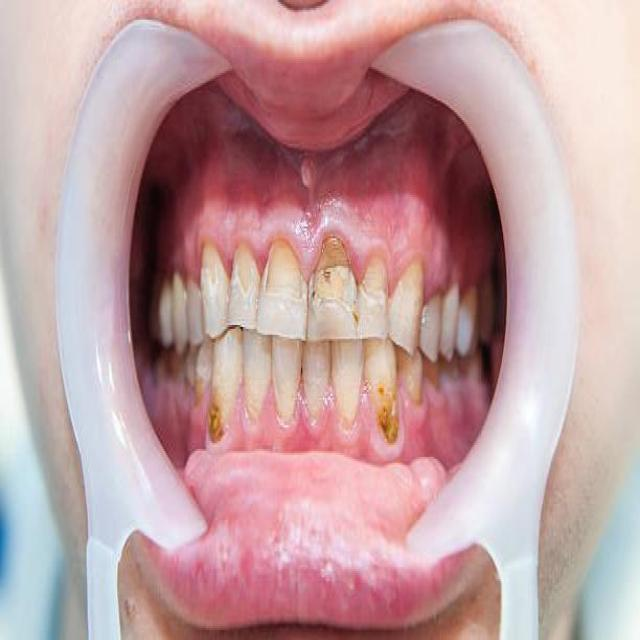caries: (306, 231, 357, 311), (262, 242, 305, 310), (195, 238, 227, 296), (359, 250, 388, 312), (229, 240, 260, 297)
